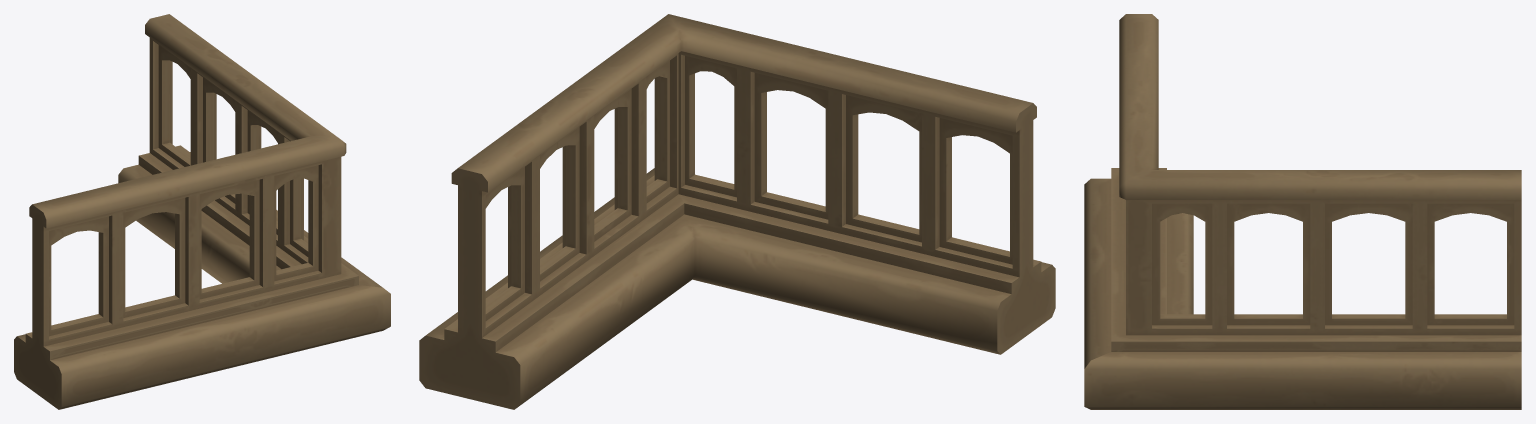
File: ARC0510075.fbx
3 renders of one model, left to right at view 1: azimuth 30°, elevation 25°; view 2: azimuth 150°, elevation 25°; view 3: azimuth 270°, elevation 25°, orthographic. The views are drawn at different scales.
Visible parts, largest first — view 1: smARC0510075; view 2: smARC0510075; view 3: smARC0510075.
Part boxes in pixels (x1,y1,x2,y2): smARC0510075: (14,14,390,409); smARC0510075: (419,14,1055,409); smARC0510075: (1084,14,1521,409).
Size of the model in its own units: 160 by 86.45 by 160.
1 material, 1 textured.
